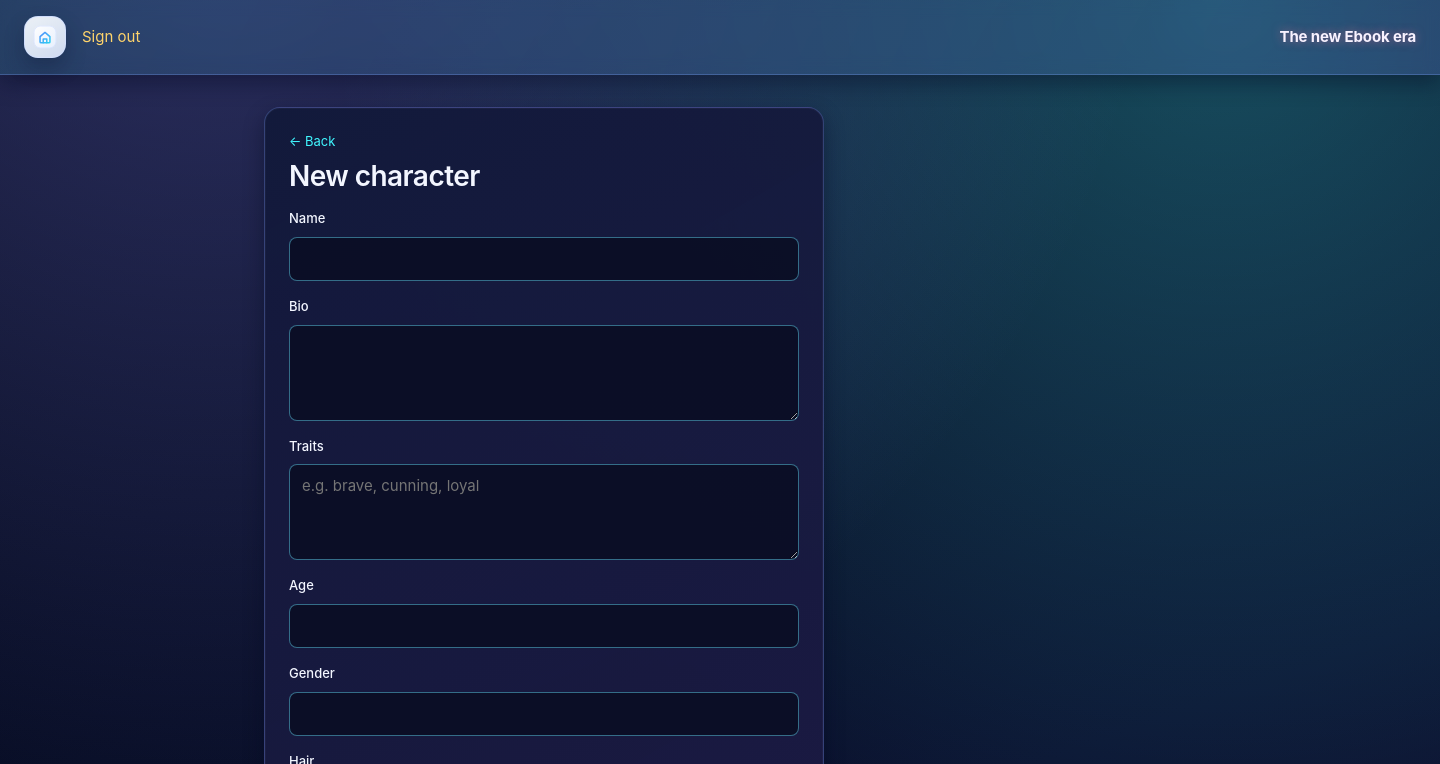
Test: <CharacterForm /> › shows an error if the API rejects the submission
In the field labelled "Name": (544, 259) x1=289 y1=237 x2=799 y2=281, type "Aria"
(page scrolled)
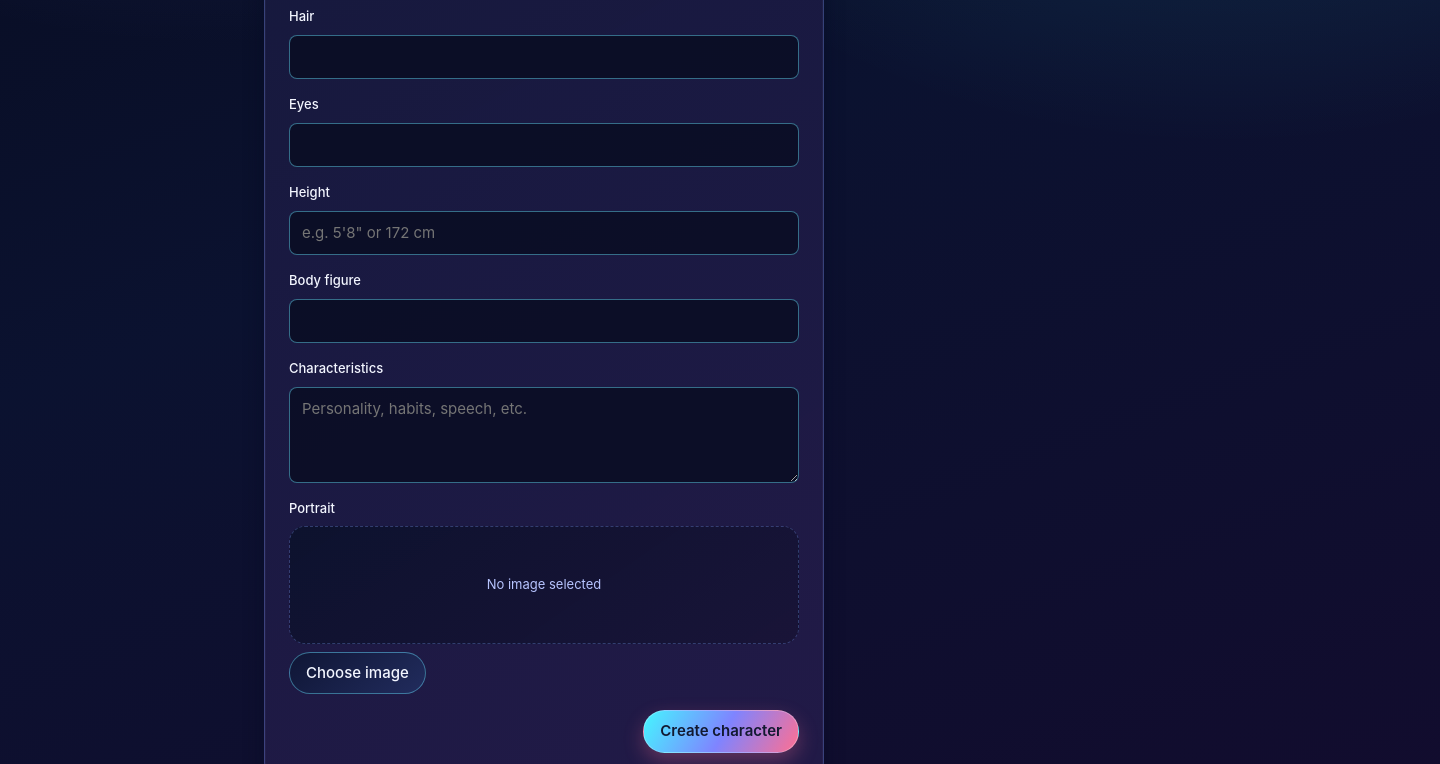
Click the button "Create character": (721, 731) x1=643 y1=710 x2=799 y2=753
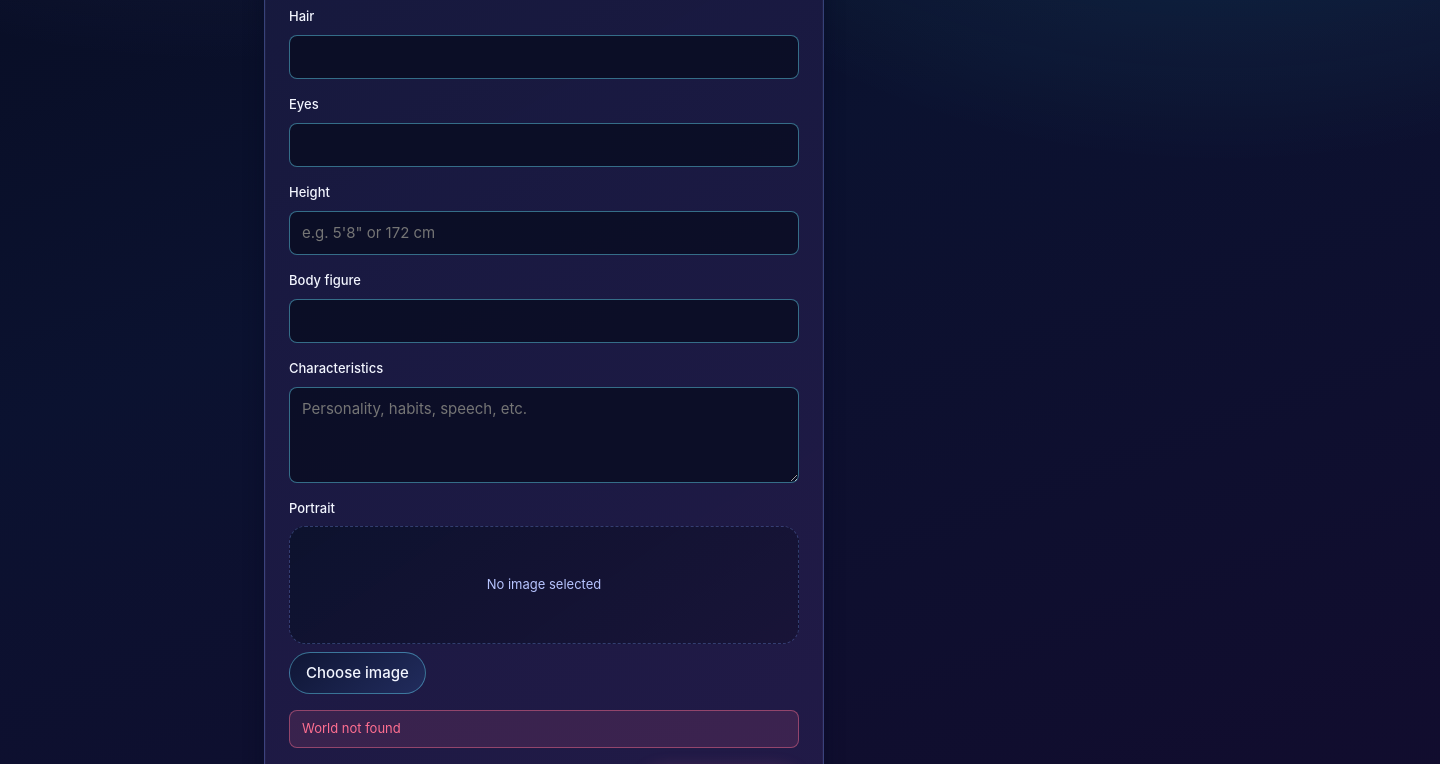
Expected: the text "World not found" is shown, x1=289 y1=710 x2=799 y2=748
